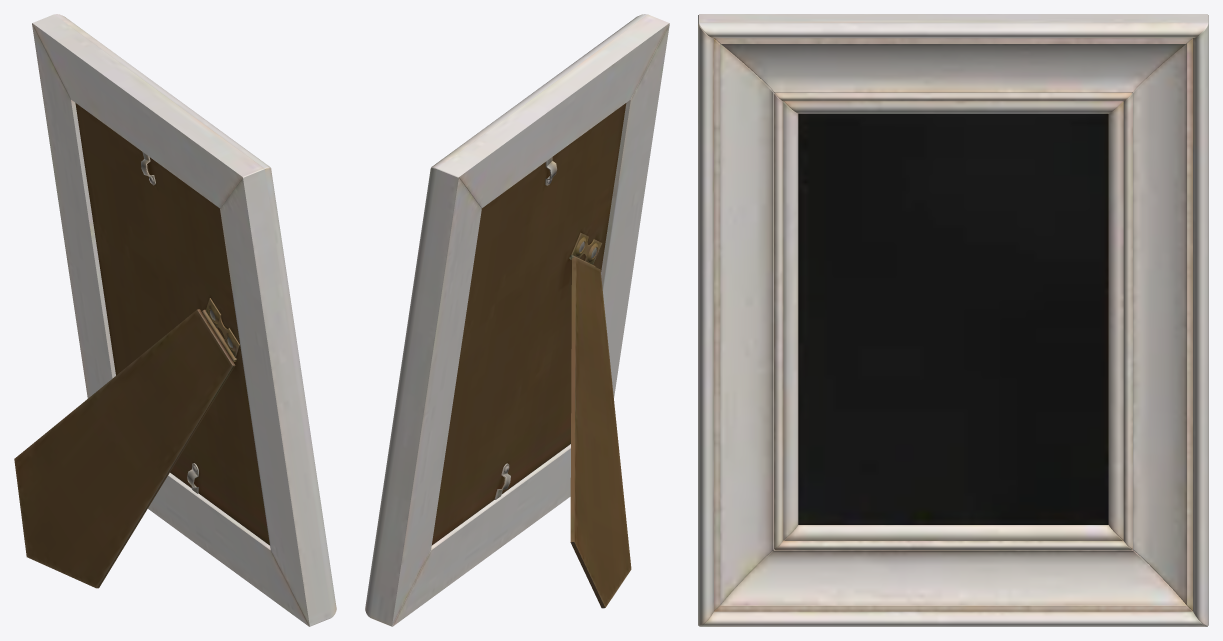
The model's file is standing_picture_frame_02.glb.
3 views of the same model, side by side, from view 1: azimuth 30°, elevation 25°; view 2: azimuth 150°, elevation 25°; view 3: azimuth 270°, elevation 25° (orthographic). The views are drawn at different scales.
Visible parts, largest first — view 1: standing_picture_frame_02; view 2: standing_picture_frame_02; view 3: standing_picture_frame_02.
Boxes of the visible parts, left/top/right/bottom form: standing_picture_frame_02: left=14, top=14, right=336, bottom=626; standing_picture_frame_02: left=365, top=14, right=669, bottom=626; standing_picture_frame_02: left=698, top=14, right=1208, bottom=626.
Bounding box in the file's own units: 0.1023 × 0.2664 × 0.2169.
Materials: 3 (3 with a texture image).
